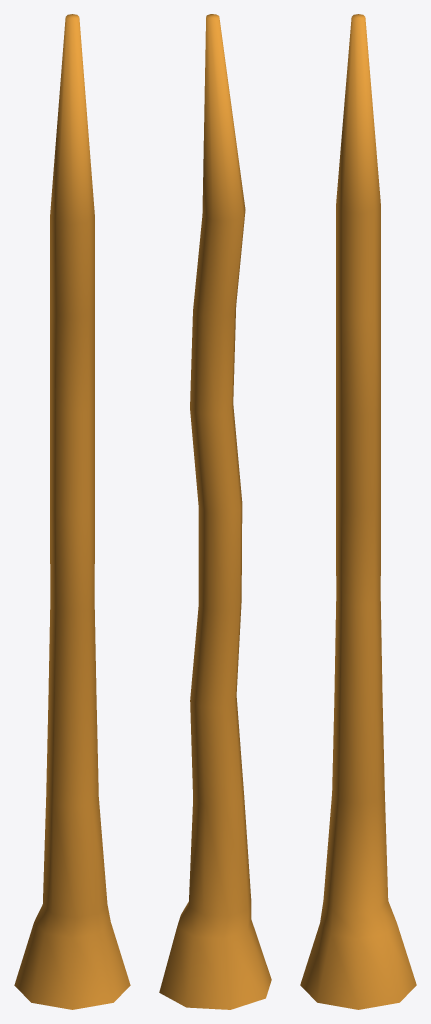
File: BigTree.fbx
3 renders of one model, left to right at view 1: azimuth 90°, elevation 25°; view 2: azimuth 150°, elevation 25°; view 3: azimuth 270°, elevation 25°, orthographic.
Visible parts, largest first — view 1: Tree lowPoly; view 2: Tree lowPoly; view 3: Tree lowPoly.
Boxes of the visible parts, x1,y1,x2,y2 form: Tree lowPoly: (14, 14, 130, 1009); Tree lowPoly: (159, 14, 271, 1009); Tree lowPoly: (300, 14, 416, 1009).
Bounding box in the file's own units: 439 × 4025 × 439.
